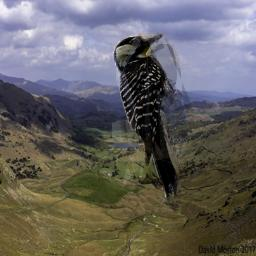Woodpecker: (112, 33, 196, 204)
